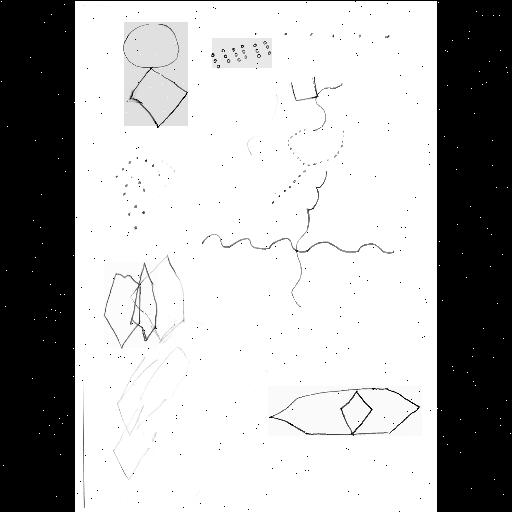shape-1: (124, 22, 188, 126)
shape-2: (254, 29, 388, 39)
shape-3: (212, 38, 272, 68)
shape-4: (116, 154, 162, 232)
shape-5: (290, 74, 344, 130)
shape-6: (274, 128, 344, 204)
shape-7: (204, 170, 394, 308)
shape-8: (104, 262, 158, 348)
shape-9: (268, 386, 422, 436)
